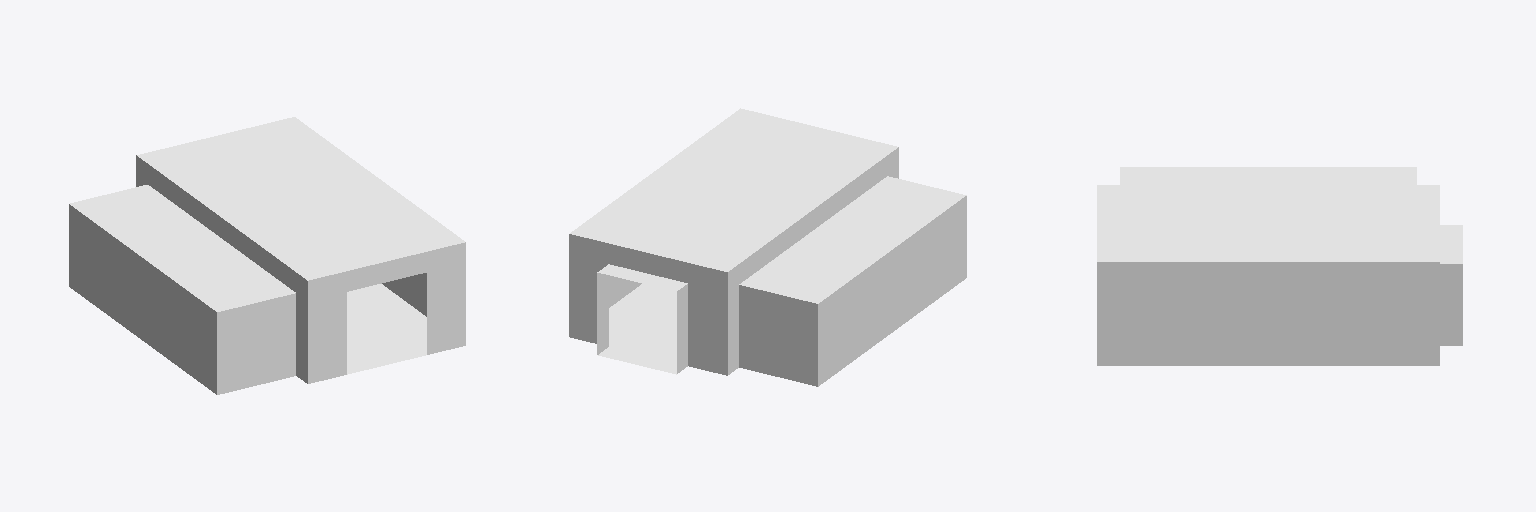
Rendered from New Game Object (1).obj.
3 renders of one model, left to right at view 1: azimuth 30°, elevation 25°; view 2: azimuth 150°, elevation 25°; view 3: azimuth 270°, elevation 25°, orthographic.
Parts seen in each view (by area): view 1: New Game Object (1); view 2: New Game Object (1); view 3: New Game Object (1).
Part boxes in pixels (left/top/right/bottom): New Game Object (1): left=69, top=117, right=465, bottom=394; New Game Object (1): left=569, top=108, right=966, bottom=386; New Game Object (1): left=1097, top=167, right=1462, bottom=365.
Size of the model in its own units: 12 by 5 by 16.